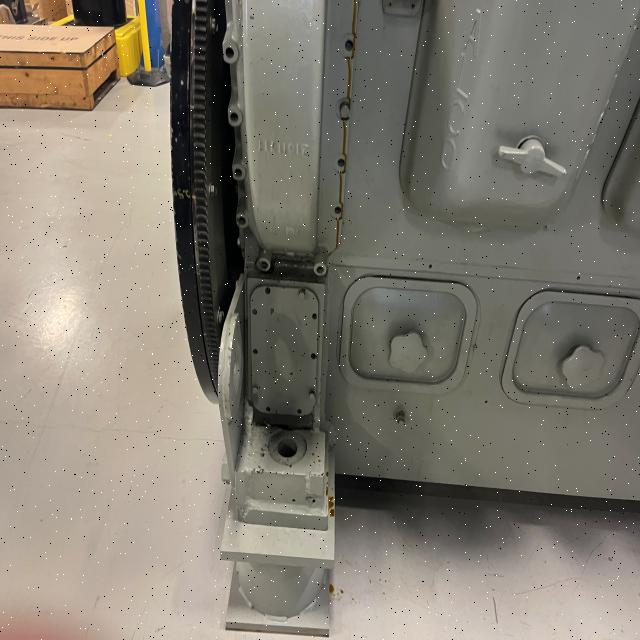Oil Leak: (329, 0, 358, 249), (328, 496, 334, 516), (329, 584, 334, 594)
